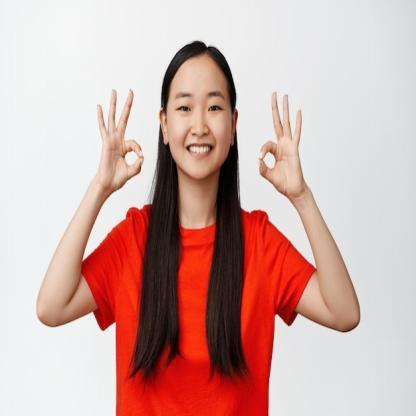ok: (94, 85, 146, 193), (258, 90, 306, 198)
